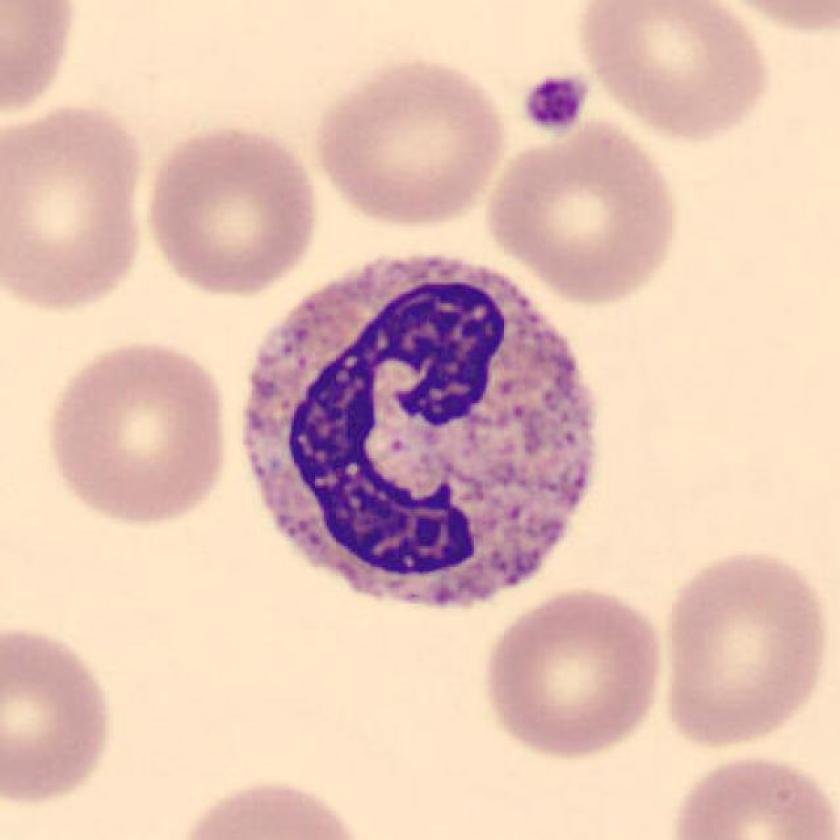neutrophil: (242, 257, 597, 607)
